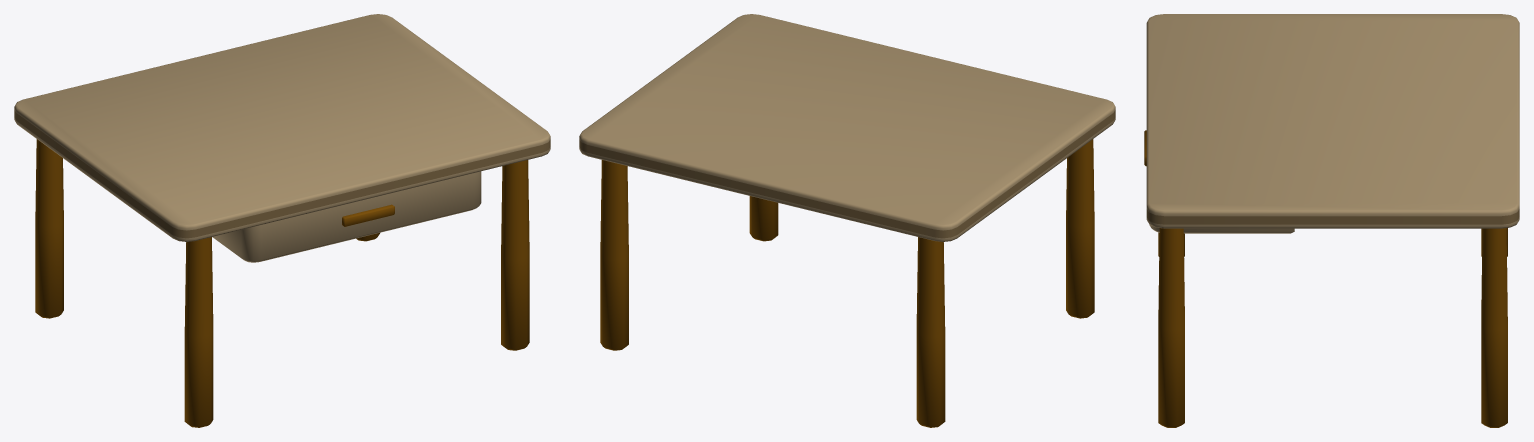
Rendered from Table.fbx.
The picture shows the model from 3 angles, left to right: view 1: azimuth 30°, elevation 25°; view 2: azimuth 150°, elevation 25°; view 3: azimuth 270°, elevation 25°; orthographic projection. The views are drawn at different scales.
Visible parts, largest first — view 1: Table; view 2: Table; view 3: Table.
Part boxes in pixels (x1,y1,x2,y2): Table: (14,14,550,427); Table: (579,14,1115,427); Table: (1144,14,1519,427).
Size of the model in its own units: 4.8 by 2.57 by 3.84.
